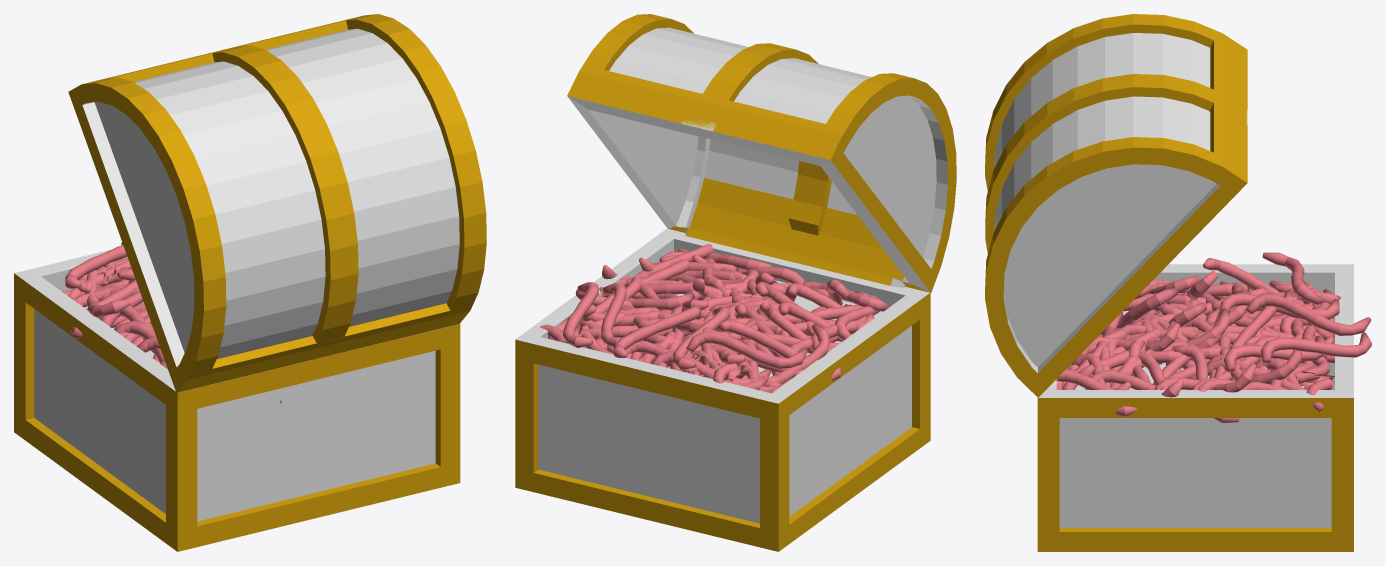
The model's file is chestsolucan.fbx.
3 views of the same model, side by side, from view 1: azimuth 30°, elevation 25°; view 2: azimuth 150°, elevation 25°; view 3: azimuth 270°, elevation 25° (orthographic). The views are drawn at different scales.
Parts seen in each view (by area): view 1: kapak, body, body.002; view 2: kapak, body, body.002; view 3: kapak, body, body.002.
Boxes of the visible parts, box(x1,y1,x2,y2) form: kapak: box(68, 14, 486, 392); body: box(14, 249, 460, 551); body.002: box(62, 242, 281, 403); kapak: box(567, 14, 956, 292); body: box(515, 228, 930, 551); body.002: box(540, 244, 890, 393); kapak: box(985, 14, 1247, 397); body: box(1037, 264, 1353, 551); body.002: box(1056, 252, 1371, 422).
Size of the model in its own units: 206 by 282 by 245.
